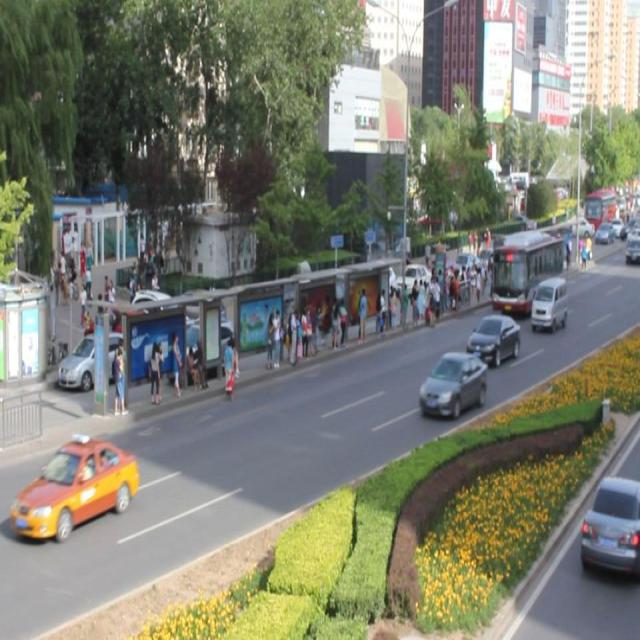car: (12, 435, 140, 540), (419, 348, 486, 415), (466, 312, 519, 363)
truck: (530, 278, 566, 328)
van: (490, 228, 561, 314)
